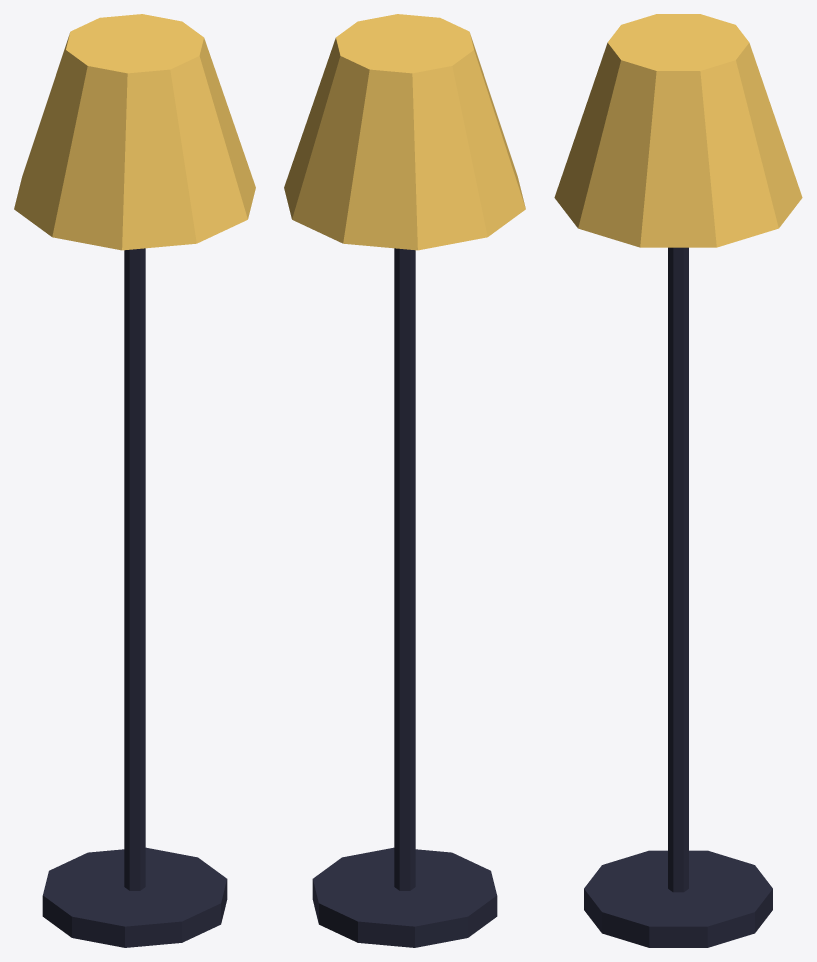
The model's file is floor_lamp.fb8c1e011dd0.glb.
3 renders of one model, left to right at view 1: azimuth 30°, elevation 25°; view 2: azimuth 150°, elevation 25°; view 3: azimuth 270°, elevation 25°, orthographic.
Visible parts, largest first — view 1: floor_lamp; view 2: floor_lamp; view 3: floor_lamp.
Boxes of the visible parts, <box> form: floor_lamp: <box>14,14,255,947</box>; floor_lamp: <box>284,14,525,947</box>; floor_lamp: <box>554,14,802,947</box>.
Bounding box in the file's own units: 0.3994 × 1.62 × 0.42.
